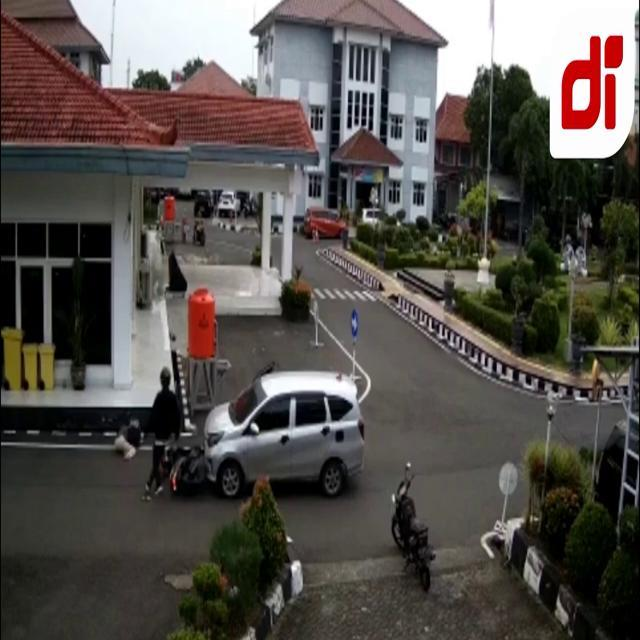multiple_accident: (126, 370, 393, 511)
